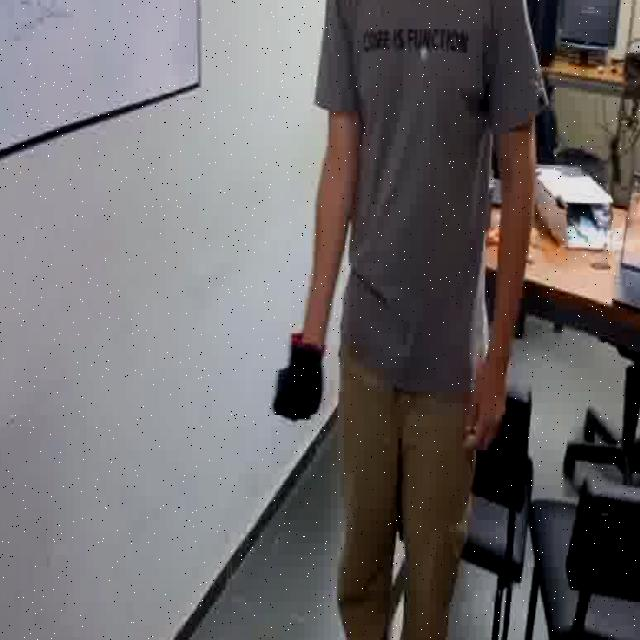Gloves: (272, 322, 325, 422)
